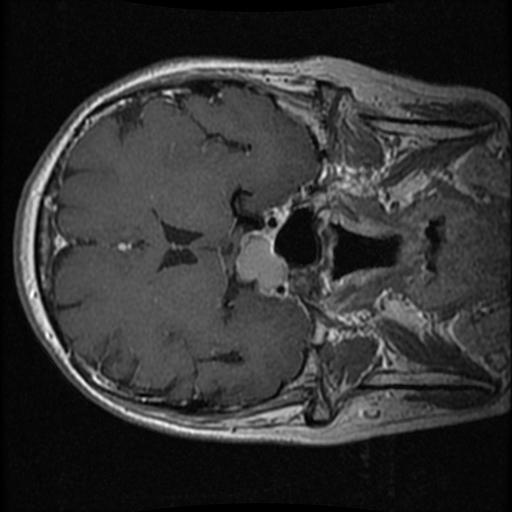pituitary tumour: (237, 232, 285, 290)
